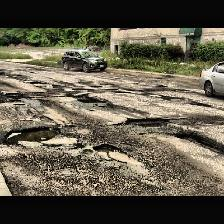pothole: (2, 125, 60, 146), (91, 142, 136, 164), (112, 116, 170, 128), (176, 134, 200, 142), (76, 97, 106, 103)
